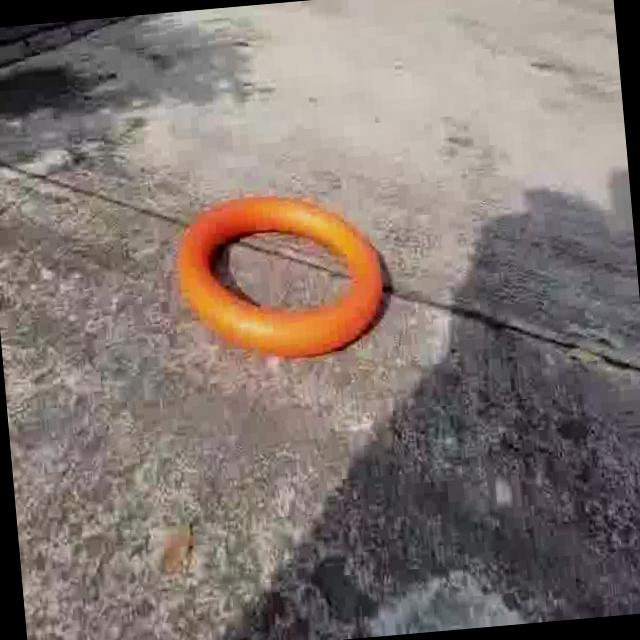note: (174, 184, 398, 378)
